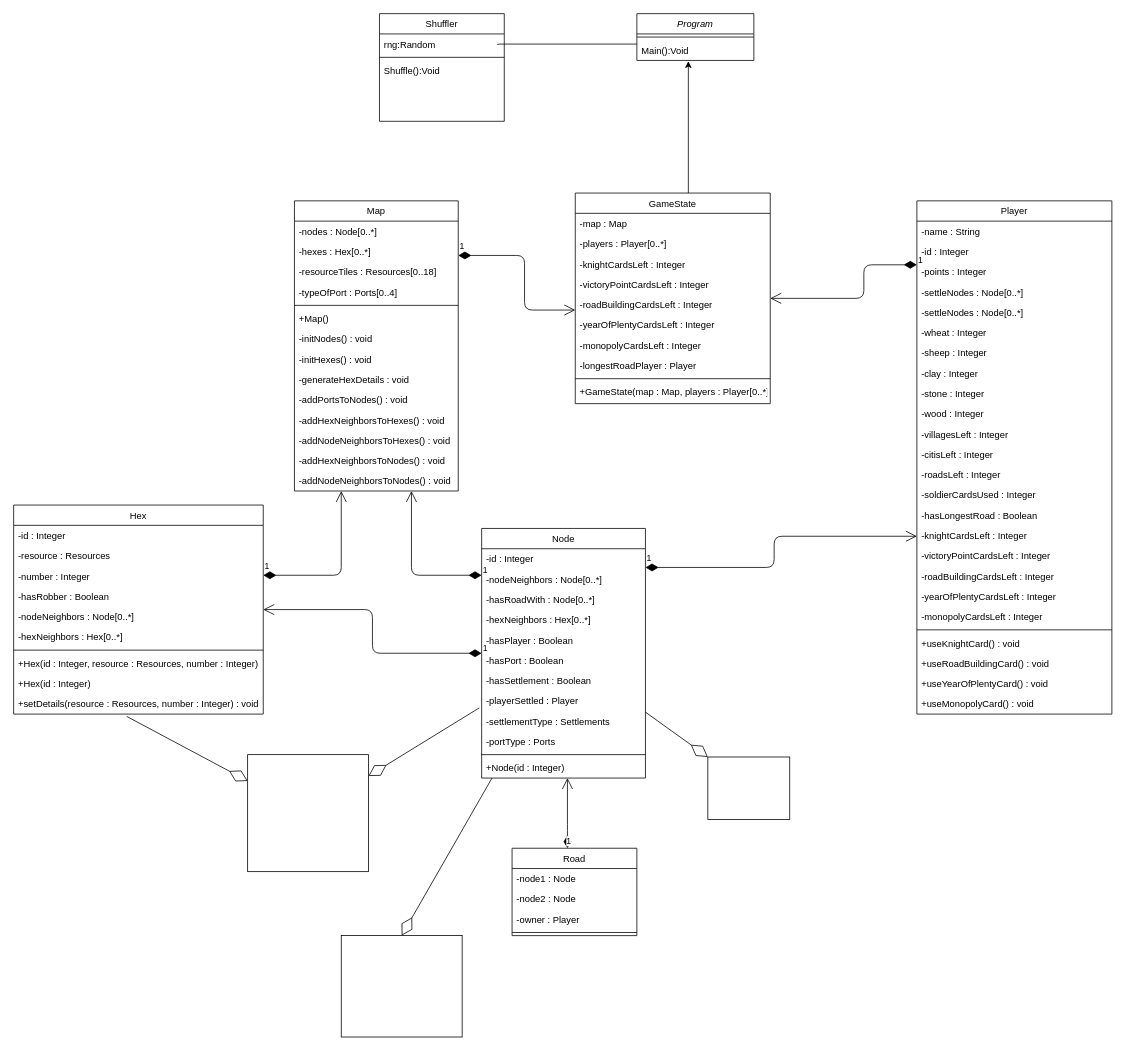
Some shapes in this 1126 by 1051 pixel diagram are drawn without their labels. The centre of each missing label's shape, as x and y in pixels:
<<enumeration>> Ports Wheat Sheep Wood Clay Stone Simple: the point at 401,986
<<enumeration>> Resources Wheat Sheep Wood Clay Stone Desert Ocean: the point at 308,813
<<enumeration>> Settlements Village City: the point at 748,787
